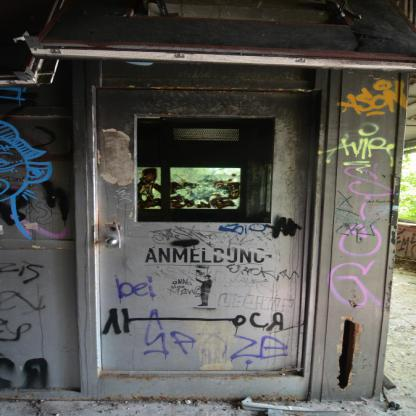door: (98, 91, 299, 368)
knob: (106, 233, 119, 248)
